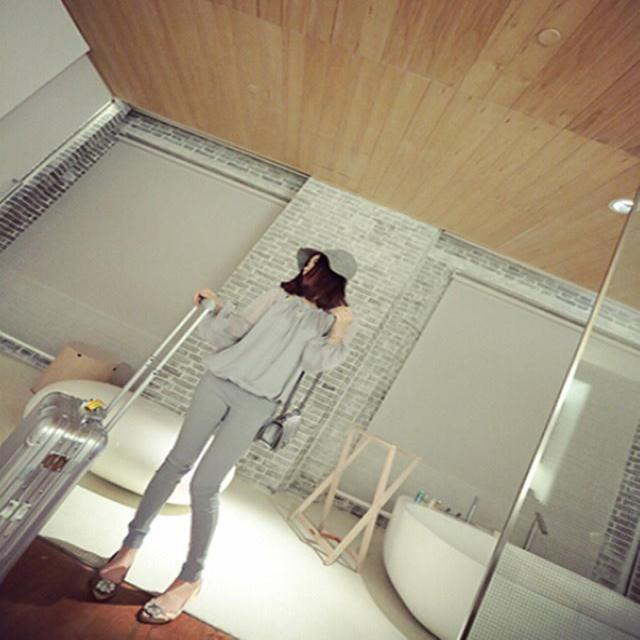long-sleeve-dress: (255, 284, 361, 379)
trousers: (170, 366, 277, 596)
